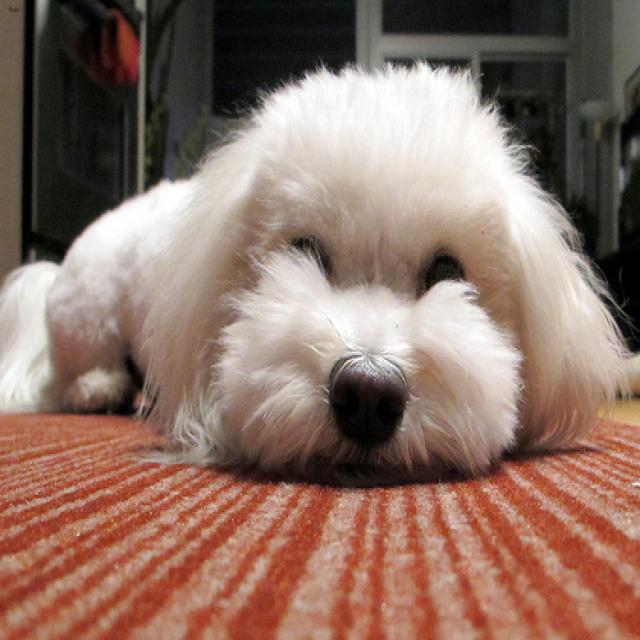dog-havanese: (1, 49, 637, 502)
